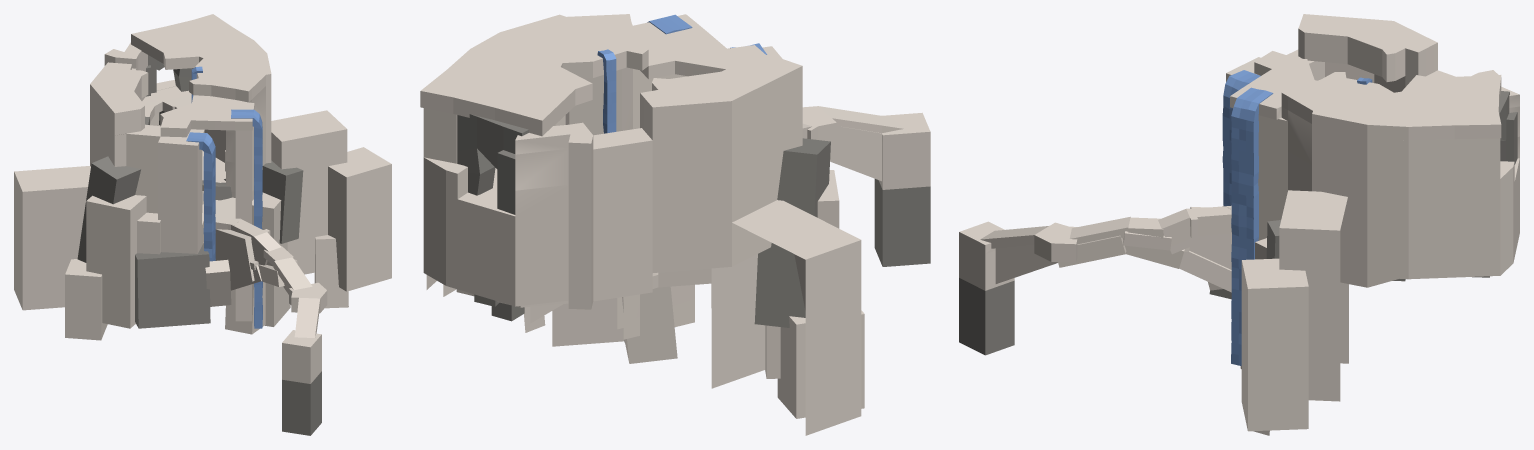
The model's file is Peak_Moist2.fbx.
The picture shows the model from 3 angles, left to right: view 1: azimuth 30°, elevation 25°; view 2: azimuth 150°, elevation 25°; view 3: azimuth 270°, elevation 25°; orthographic projection. The views are drawn at different scales.
Parts seen in each view (by area): view 1: Moist_Bulk, Moist_Ceil, Moist_Walls, Bridge, Waterfalls, Moist_Floor, Entry_Platform, Entryway; view 2: Moist_Walls, Moist_Bulk, Moist_Ceil, Bridge, Entryway, Waterfalls, Moist_Floor, Rubble_WallSupport; view 3: Moist_Walls, Moist_Bulk, Moist_Ceil, Bridge, Waterfalls, Entryway.
Boxes of the visible parts, x1,y1,x2,y2 form: Moist_Bulk: (14,110,391,435); Moist_Ceil: (90,14,271,137); Moist_Walls: (90,42,271,234); Bridge: (215,218,327,383); Waterfalls: (186,66,262,328); Moist_Floor: (161,150,240,253); Entry_Platform: (142,86,191,123); Entryway: (146,55,193,96); Moist_Walls: (423,46,802,309); Moist_Bulk: (426,138,930,435); Moist_Ceil: (420,14,802,140); Bridge: (802,106,930,189); Entryway: (457,114,528,214); Waterfalls: (597,14,766,133); Moist_Floor: (456,268,711,307); Rubble_WallSupport: (474,294,524,321); Moist_Walls: (1226,49,1519,279); Moist_Bulk: (959,190,1348,435); Moist_Ceil: (1230,14,1501,140); Bridge: (959,206,1231,292); Waterfalls: (1222,70,1372,365); Entryway: (1499,91,1517,164).
Size of the model in its own units: 4527 by 5506 by 3190.
